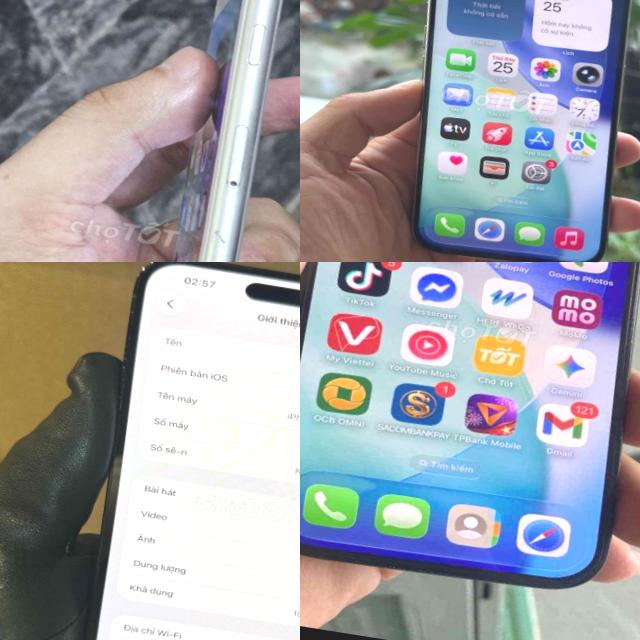gen_14: (50, 262, 300, 640)
gen_15: (300, 262, 640, 614), (360, 0, 640, 262)
gen_7_8: (167, 0, 281, 262)
scratch: (188, 217, 242, 256)
